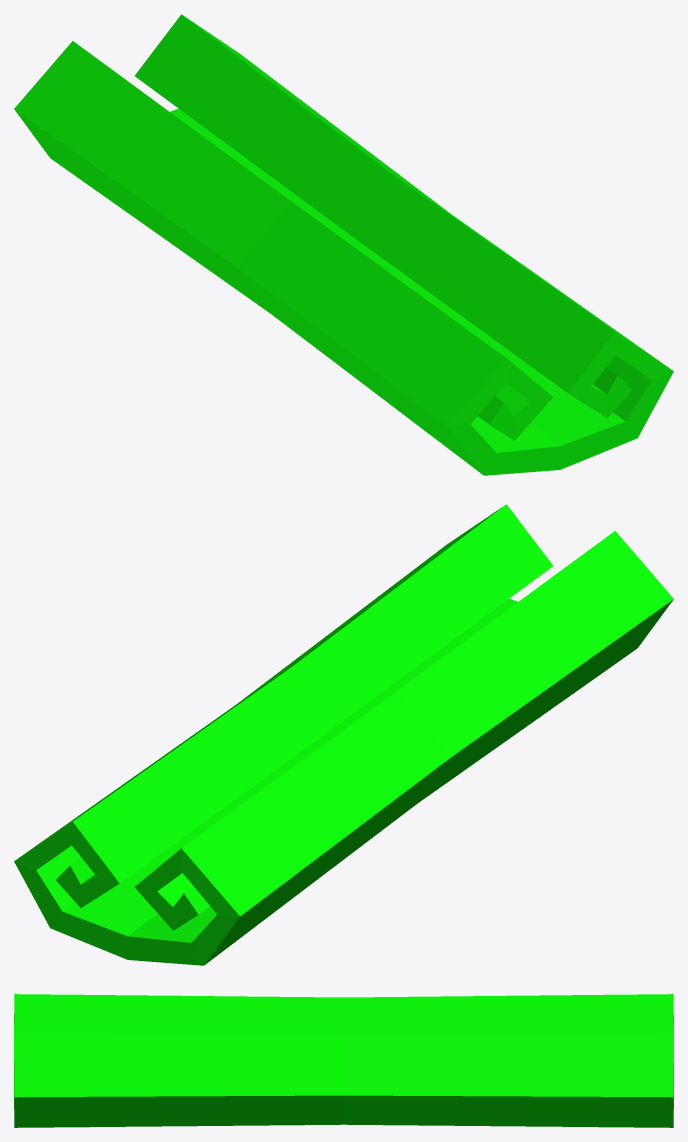
The model's file is SM_Cinamon.fbx.
3 renders of one model, top to bottom at view 1: azimuth 30°, elevation 25°; view 2: azimuth 150°, elevation 25°; view 3: azimuth 270°, elevation 25°, orthographic. The views are drawn at different scales.
Visible parts, largest first — view 1: cinamon; view 2: cinamon; view 3: cinamon.
Boxes of the visible parts, x1,y1,x2,y2 form: cinamon: (14, 14, 673, 475); cinamon: (14, 504, 673, 965); cinamon: (14, 994, 673, 1127).
Size of the model in its own units: 0.0497 by 0.0262 by 0.1653.
